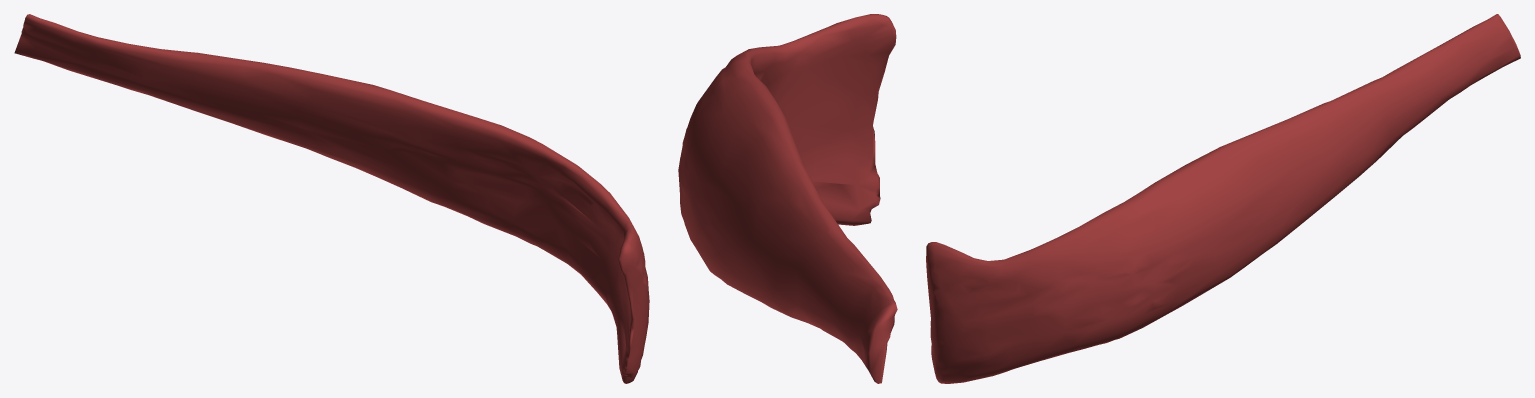
The model's file is lateral-rectus-muscle-l.glb.
The picture shows the model from 3 angles, left to right: view 1: azimuth 30°, elevation 25°; view 2: azimuth 150°, elevation 25°; view 3: azimuth 270°, elevation 25°; orthographic projection. The views are drawn at different scales.
Visible parts, largest first — view 1: Lateral rectus muscle.l; view 2: Lateral rectus muscle.l; view 3: Lateral rectus muscle.l.
Boxes of the visible parts, x1,y1,x2,y2 form: Lateral rectus muscle.l: [14, 14, 649, 383]; Lateral rectus muscle.l: [678, 14, 897, 383]; Lateral rectus muscle.l: [926, 14, 1520, 383].
Size of the model in its own units: 0.0264 by 0.0165 by 0.0398.
